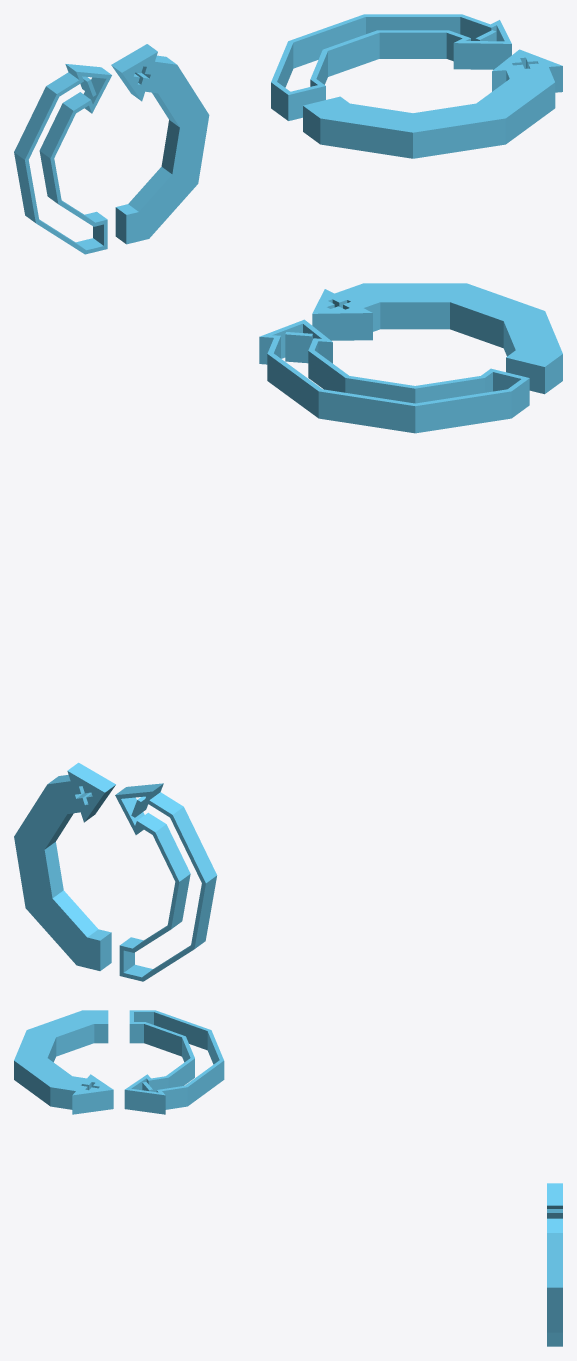
File: mpe_arrow_wheel_7.dae
3 renders of one model, top to bottom at view 1: azimuth 30°, elevation 25°; view 2: azimuth 150°, elevation 25°; view 3: azimuth 270°, elevation 25°, orthographic. The views are drawn at different scales.
Visible parts, largest first — view 1: arrow; view 2: arrow; view 3: arrow.
Part boxes in pixels (<box>): arrow: <box>14,14,562,254</box>; arrow: <box>14,283,562,981</box>; arrow: <box>14,1010,562,1346</box>.
Bounding box in the file's own units: 0.4717 × 1.29 × 0.7364.
